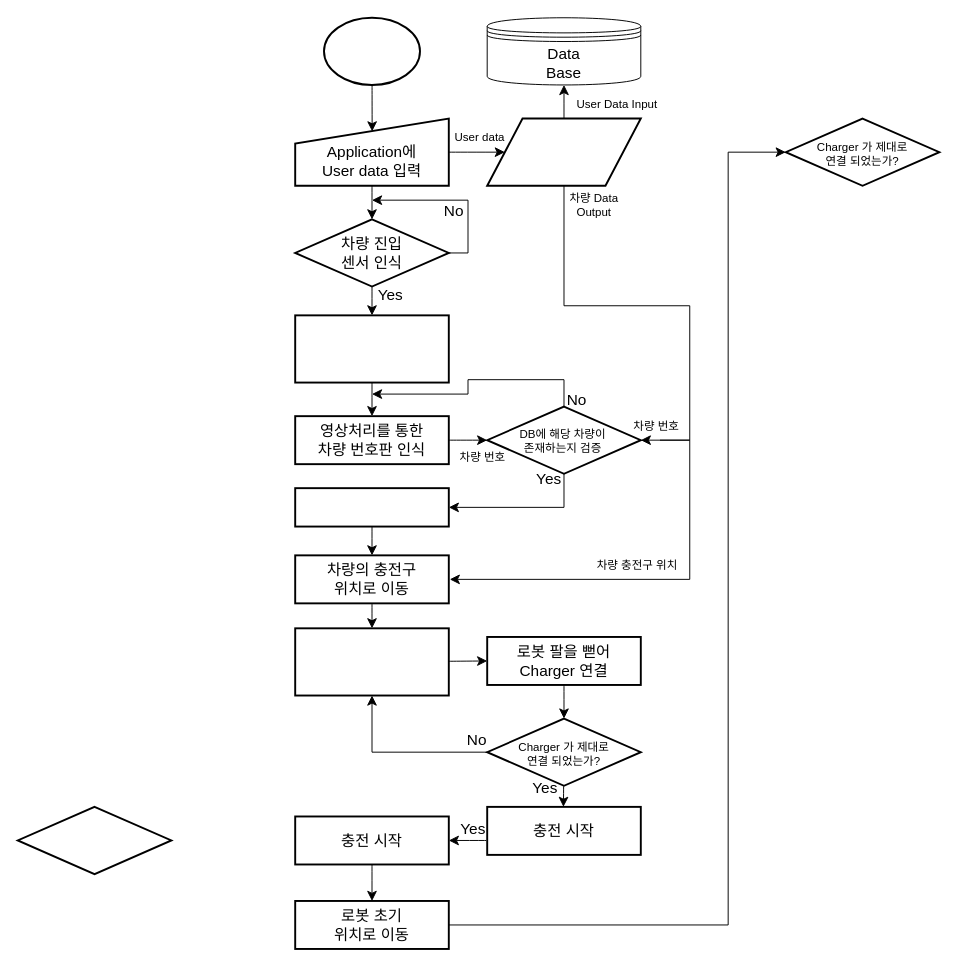
Some shapes in this 956 by 966 pixel diagram are drawn without their labels. Each missing label, with the centre of its shape:
Charger grab: point (371, 507)
User가 App에서 충전 시작 버튼을 눌렀는가?: point (94, 840)
시작: point (371, 50)
영상처리를 통한 차량 충전구 위치 탐색 및 Charger 이동: point (371, 661)
입력 Data DB에 저장: point (563, 151)
해당 주차장의 차량 번호판 위치로 로봇 이동: point (371, 348)
